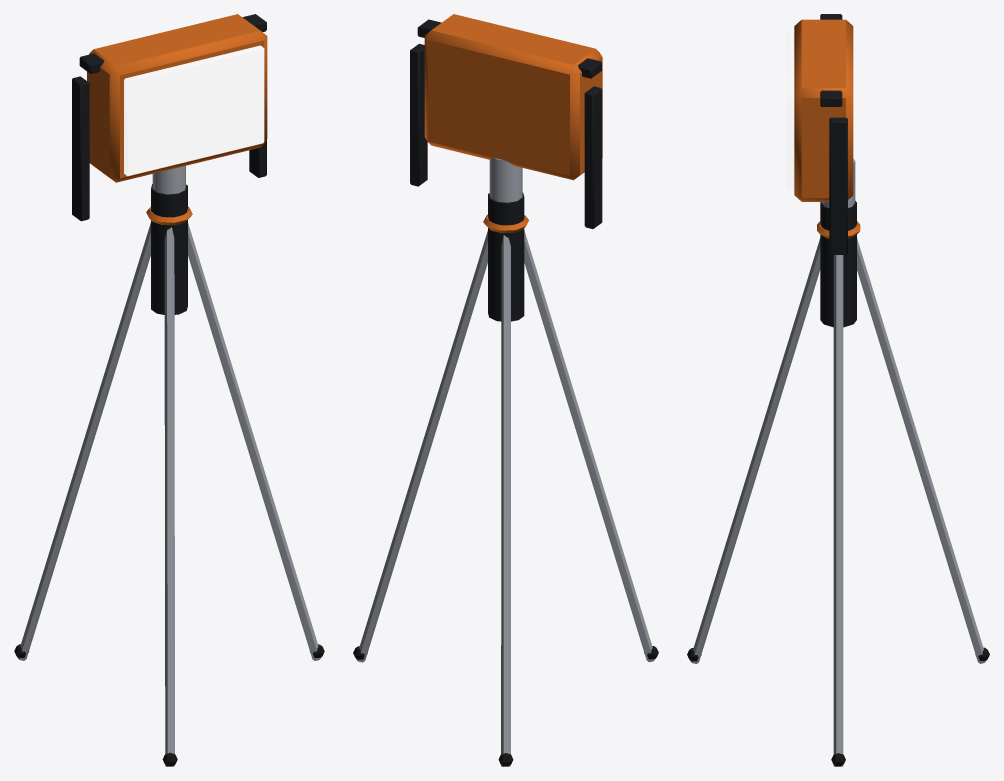
Rendered from spotlight_tripod_floodlight.glb.
3 renders of one model, left to right at view 1: azimuth 30°, elevation 25°; view 2: azimuth 150°, elevation 25°; view 3: azimuth 270°, elevation 25°, orthographic. The views are drawn at different scales.
Parts seen in each view (by area): view 1: spotlight_tripod_floodlight; view 2: spotlight_tripod_floodlight; view 3: spotlight_tripod_floodlight.
Boxes of the visible parts, x1,y1,x2,y2 form: spotlight_tripod_floodlight: (14, 14, 324, 766); spotlight_tripod_floodlight: (353, 14, 658, 766); spotlight_tripod_floodlight: (687, 14, 989, 766).
Size of the model in its own units: 0.7523 by 1.92 by 0.8207.
